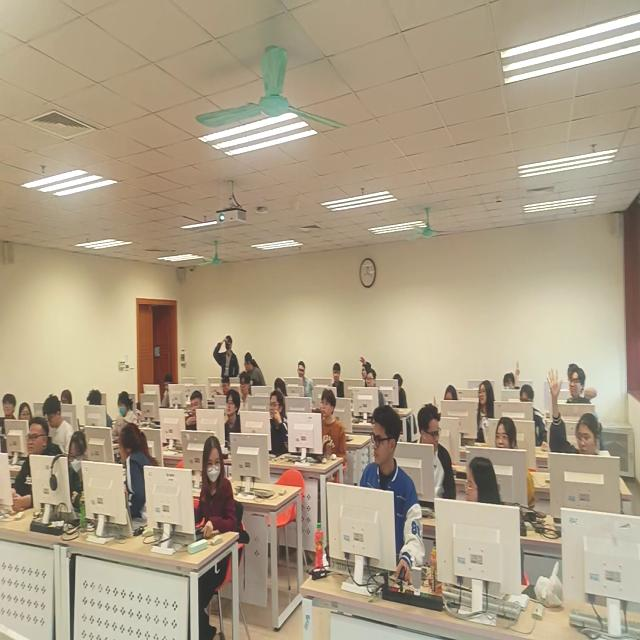raise_hand: (548, 369, 609, 456), (434, 385, 459, 414), (504, 362, 521, 391), (360, 357, 375, 380)
raise_head: (9, 418, 64, 512), (496, 417, 536, 510), (322, 388, 348, 462), (269, 391, 290, 455), (226, 390, 241, 455), (1, 393, 17, 453), (567, 368, 592, 406), (479, 382, 496, 434), (367, 370, 386, 409), (297, 361, 315, 401), (332, 362, 345, 400), (240, 372, 252, 410)
stand: (119, 423, 162, 525), (214, 335, 241, 384), (245, 352, 267, 387)
using_computer: (199, 436, 238, 534), (43, 395, 73, 456), (69, 433, 93, 505), (521, 386, 547, 452), (113, 392, 138, 441), (569, 364, 598, 406), (88, 389, 113, 429), (61, 389, 81, 431), (187, 392, 204, 433), (391, 374, 409, 409), (162, 375, 175, 409)
using_phone: (216, 377, 232, 397)
